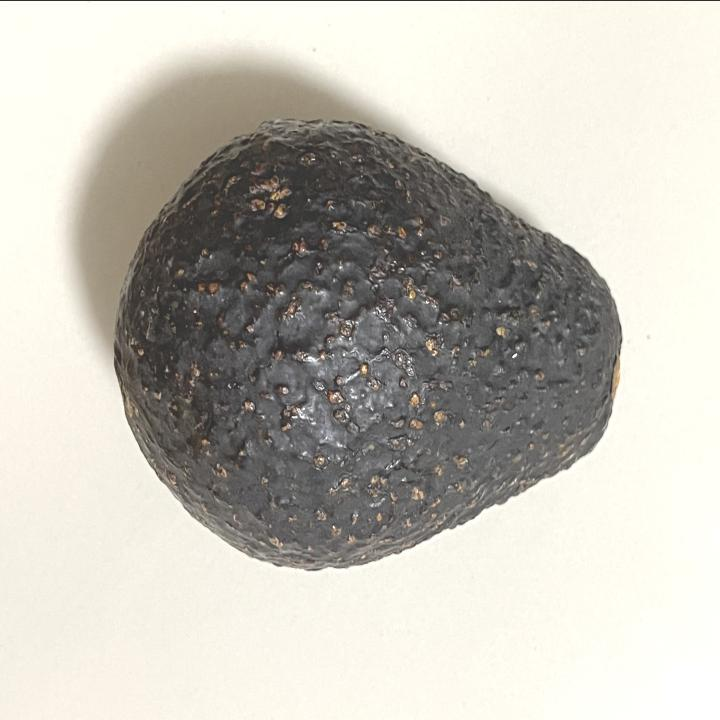Level3: (106, 110, 632, 580)
